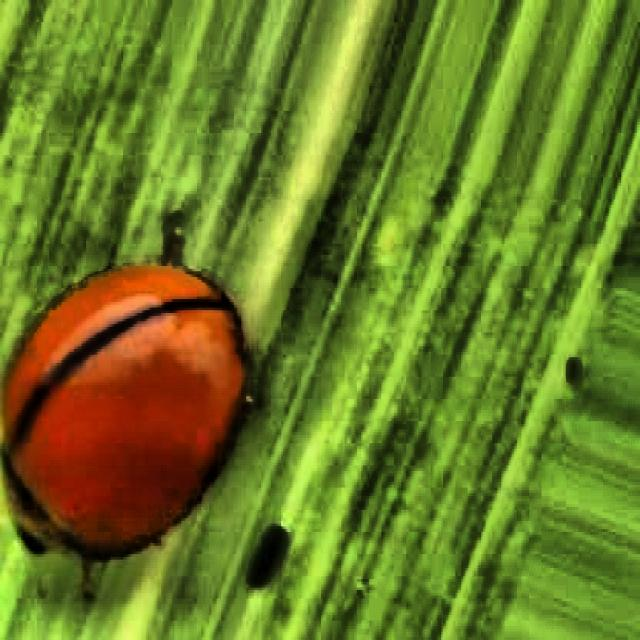Ladybug: (5, 178, 291, 638)
